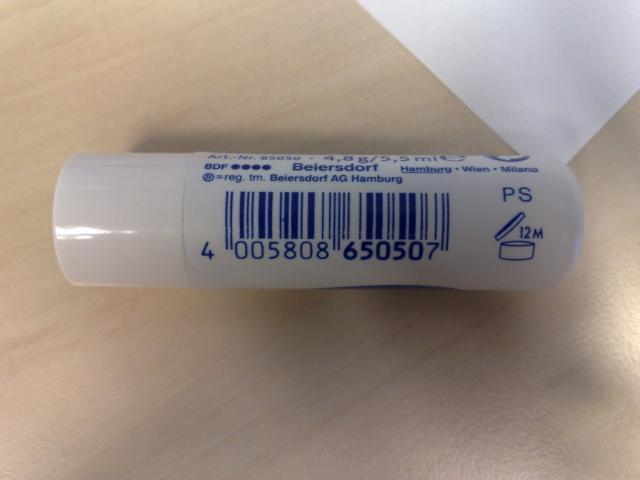Barcode: (191, 186, 456, 268)
